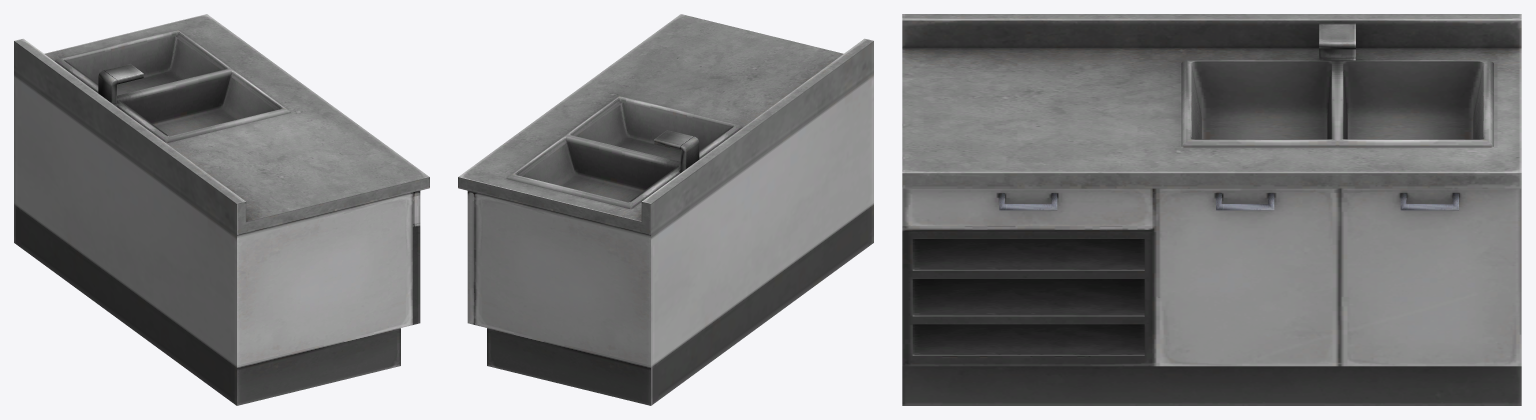
The model's file is Kitchen02.FBX.
3 views of the same model, side by side, from view 1: azimuth 30°, elevation 25°; view 2: azimuth 150°, elevation 25°; view 3: azimuth 270°, elevation 25° (orthographic). The views are drawn at different scales.
Parts seen in each view (by area): view 1: Kitchen02; view 2: Kitchen02; view 3: Kitchen02.
Boxes of the visible parts, x1,y1,x2,y2 form: Kitchen02: [14, 14, 429, 405]; Kitchen02: [458, 14, 873, 405]; Kitchen02: [902, 14, 1521, 405].
Bounding box in the file's own units: 1 × 1.03 × 2.
